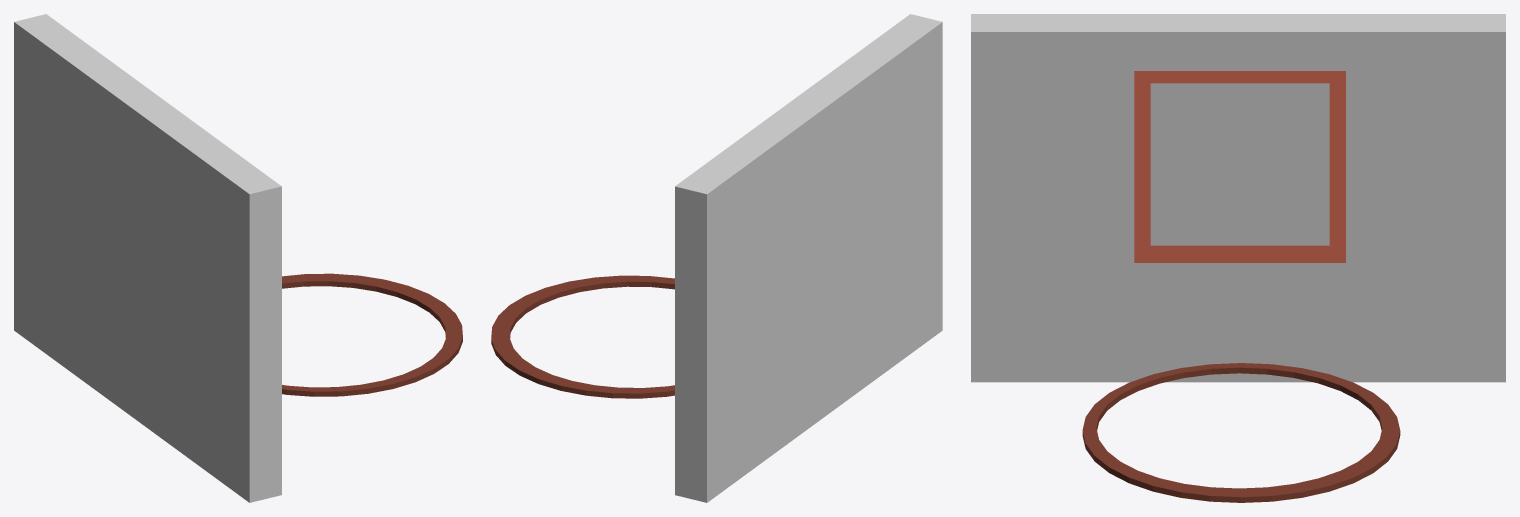
The model's file is basket2.fbx.
3 renders of one model, left to right at view 1: azimuth 30°, elevation 25°; view 2: azimuth 150°, elevation 25°; view 3: azimuth 270°, elevation 25°, orthographic. The views are drawn at different scales.
Visible parts, largest first — view 1: Cube, Circle; view 2: Cube, Circle; view 3: Cube, Cube.001, Circle.
Part boxes in pixels (<box>): Cube: <box>14,14,281,502</box>; Circle: <box>282,273,462,396</box>; Cube: <box>675,14,942,502</box>; Circle: <box>491,275,674,398</box>; Cube: <box>971,14,1505,382</box>; Cube.001: <box>1134,71,1345,262</box>; Circle: <box>1082,363,1400,502</box>.
Bounding box in the file's own units: 155 × 146 × 202.
